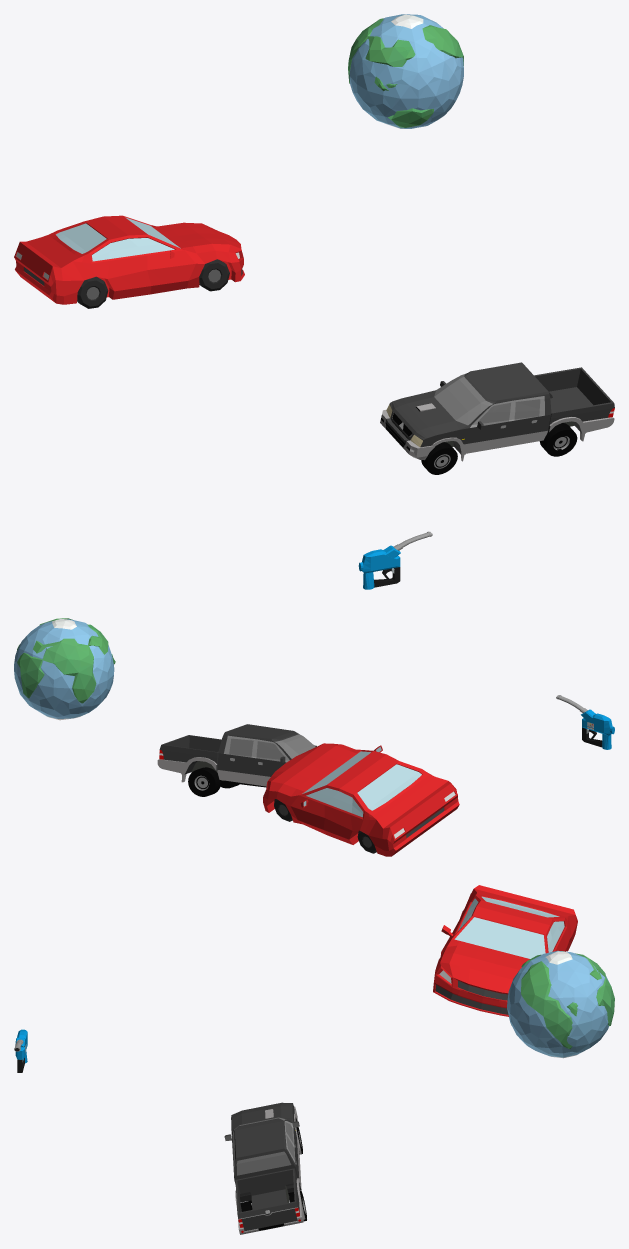
The model's file is rotating_objects.glb.
3 views of the same model, one above another, from view 1: azimuth 30°, elevation 25°; view 2: azimuth 150°, elevation 25°; view 3: azimuth 270°, elevation 25° (orthographic). The views are drawn at different scales.
Parts seen in each view (by area): view 1: TruckObject, CarObject, WorldObject, Gas pump object; view 2: CarObject, WorldObject, TruckObject, Gas pump object; view 3: CarObject, WorldObject, TruckObject.
Boxes of the visible parts, box(x1,y1,x2,y2) form: TruckObject: box(380, 362, 614, 474); CarObject: box(14, 215, 244, 308); WorldObject: box(348, 14, 463, 128); Gas pump object: box(358, 531, 432, 589); CarObject: box(263, 743, 459, 856); WorldObject: box(14, 618, 115, 720); TruckObject: box(157, 724, 316, 796); Gas pump object: box(556, 695, 614, 749); CarObject: box(433, 885, 577, 1016); WorldObject: box(507, 950, 614, 1058); TruckObject: box(224, 1102, 306, 1234).
Size of the model in its own units: 7.75 by 5.01 by 9.57.
Materials: 36 (1 with a texture image).
